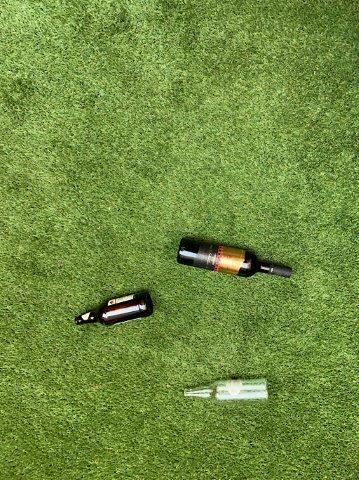botolkaca: (177, 237, 295, 279), (73, 290, 154, 325), (182, 379, 270, 402)
